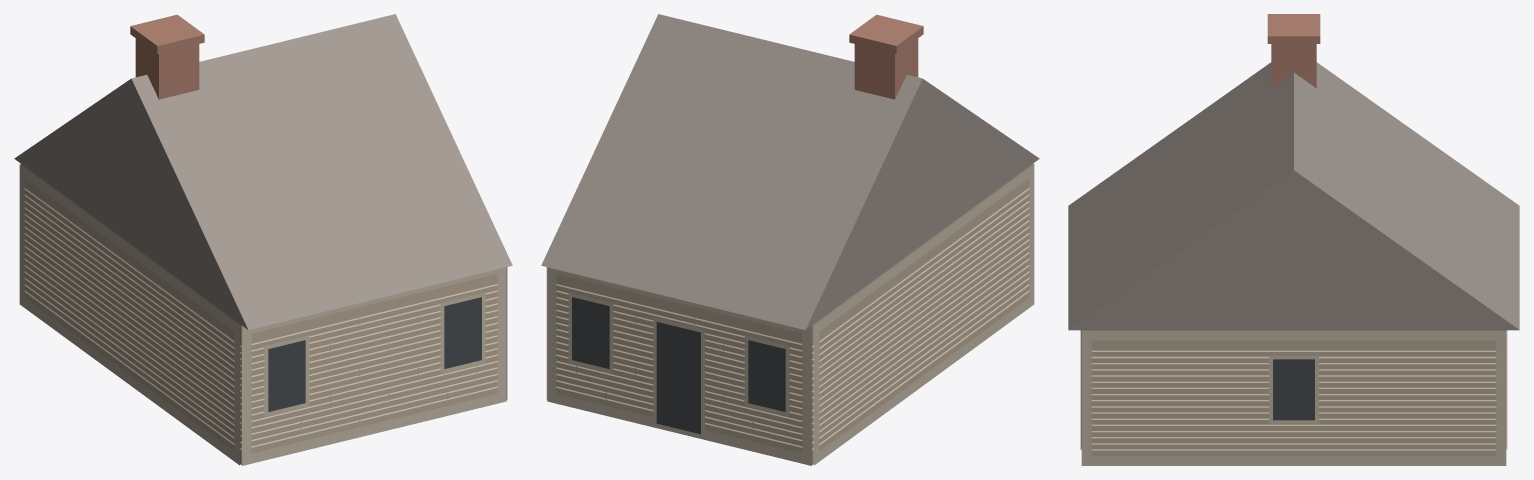
The model's file is inf_teamster_dwelling_west__inferred_1835.glb.
3 views of the same model, side by side, from view 1: azimuth 30°, elevation 25°; view 2: azimuth 150°, elevation 25°; view 3: azimuth 270°, elevation 25° (orthographic). The views are drawn at different scales.
Visible parts, largest first — view 1: inf_teamster_dwelling_west__inferred_1835; view 2: inf_teamster_dwelling_west__inferred_1835; view 3: inf_teamster_dwelling_west__inferred_1835.
Part boxes in pixels (left/top/right/bottom): inf_teamster_dwelling_west__inferred_1835: left=14, top=14, right=512, bottom=465; inf_teamster_dwelling_west__inferred_1835: left=541, top=14, right=1039, bottom=465; inf_teamster_dwelling_west__inferred_1835: left=1068, top=14, right=1519, bottom=465.
Bounding box in the file's own units: 5.57 × 6.85 × 8.43.
